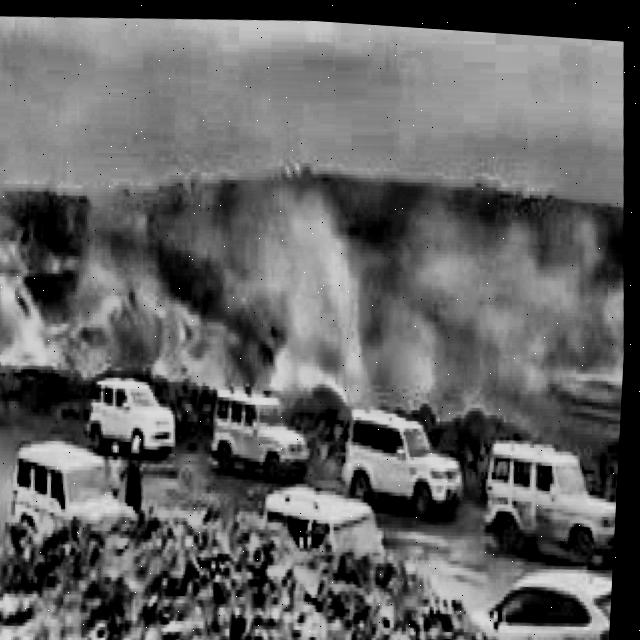light_vehicle: (482, 423, 624, 546), (340, 390, 474, 515), (11, 432, 143, 548), (486, 540, 619, 640), (274, 470, 390, 576), (216, 372, 319, 470), (91, 369, 180, 451)
